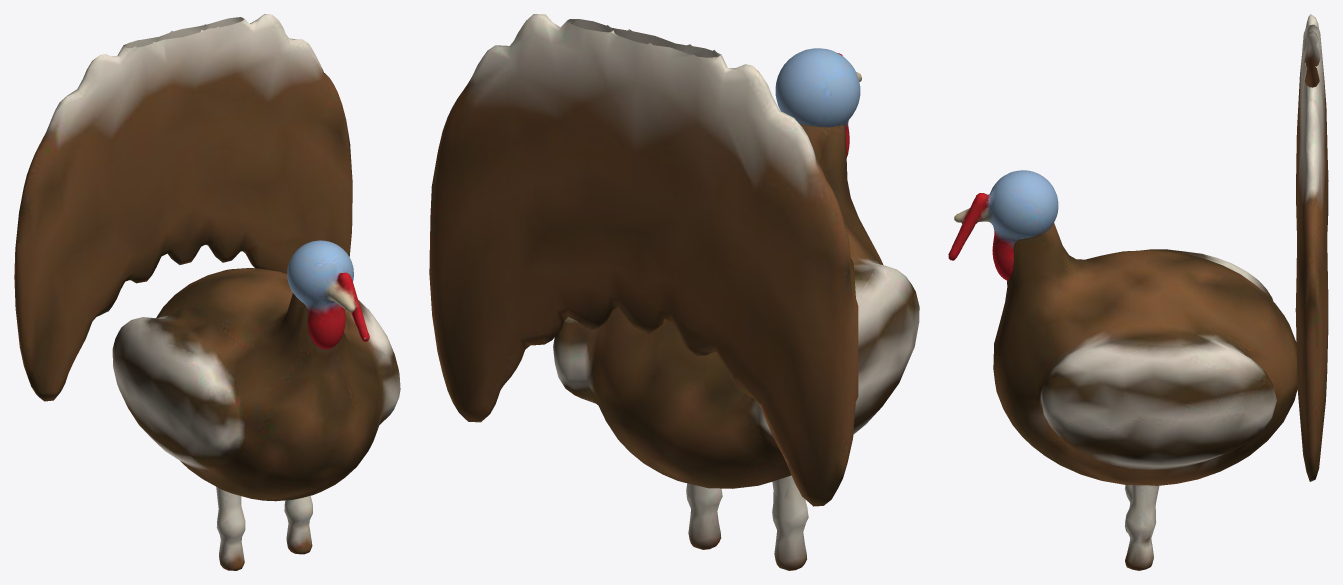
File: animal_bronze_turkey.glb
The picture shows the model from 3 angles, left to right: view 1: azimuth 30°, elevation 25°; view 2: azimuth 150°, elevation 25°; view 3: azimuth 270°, elevation 25°; orthographic projection. The views are drawn at different scales.
Parts seen in each view (by area): view 1: animal_bronze_turkey, head, leg0, leg1; view 2: animal_bronze_turkey, head, leg0, leg1; view 3: animal_bronze_turkey, head, leg1.
Boxes of the visible parts, left/top/right/bottom form: animal_bronze_turkey: left=14, top=14, right=400, bottom=501; head: left=287, top=240, right=369, bottom=349; leg0: left=216, top=486, right=245, bottom=570; leg1: left=284, top=496, right=312, bottom=554; animal_bronze_turkey: left=429, top=14, right=919, bottom=506; head: left=775, top=48, right=861, bottom=157; leg0: left=772, top=475, right=808, bottom=570; leg1: left=686, top=483, right=722, bottom=549; animal_bronze_turkey: left=993, top=14, right=1328, bottom=485; head: left=948, top=170, right=1058, bottom=280; leg1: left=1125, top=485, right=1159, bottom=570.
Size of the model in its own units: 0.3483 by 0.4656 by 0.3222.
1 material, 1 textured.
